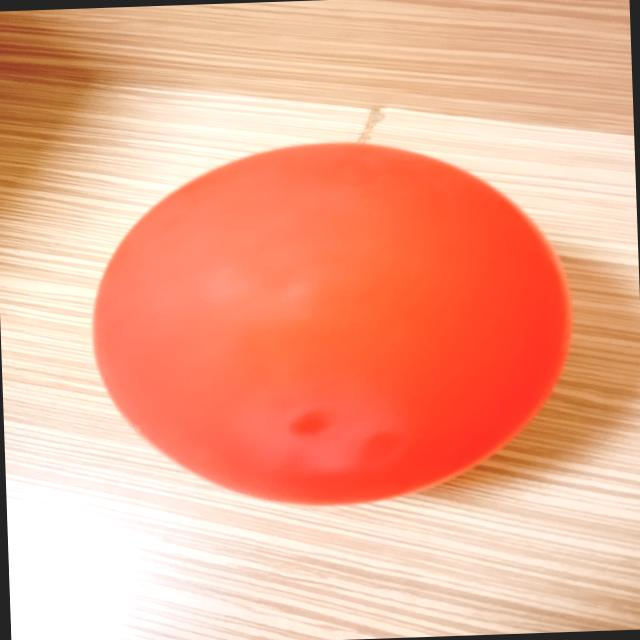balloon: (92, 143, 571, 504)
